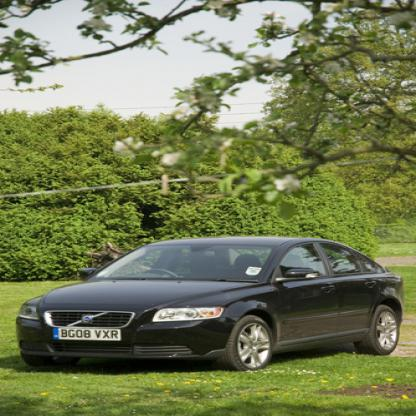car: (16, 236, 405, 370)
